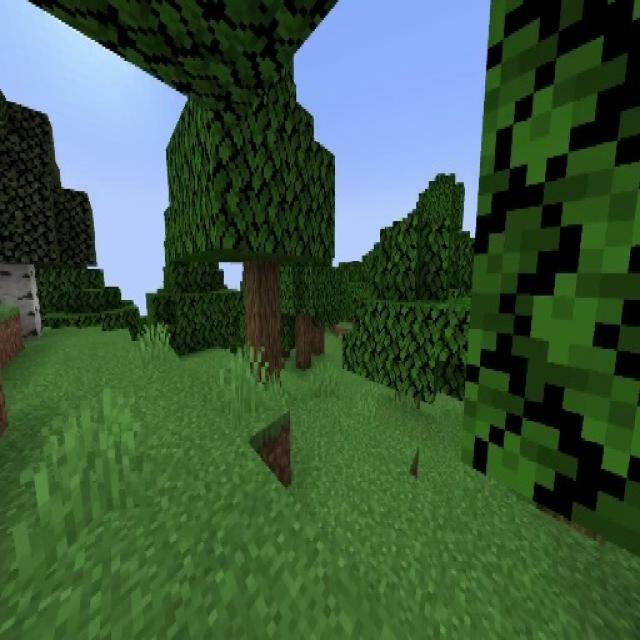birch: (0, 97, 98, 328)
birch_log: (0, 267, 41, 332)
oak: (174, 61, 332, 383), (274, 254, 333, 368), (294, 268, 342, 354)
oak_log: (245, 262, 278, 386), (297, 317, 309, 370), (312, 319, 324, 353)
